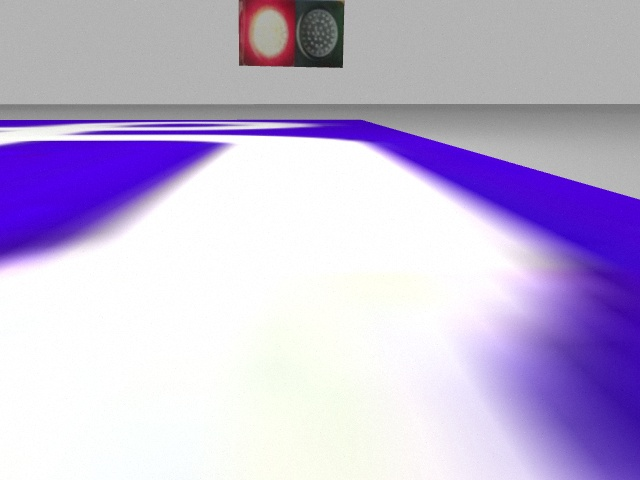red: (238, 3, 294, 66)
